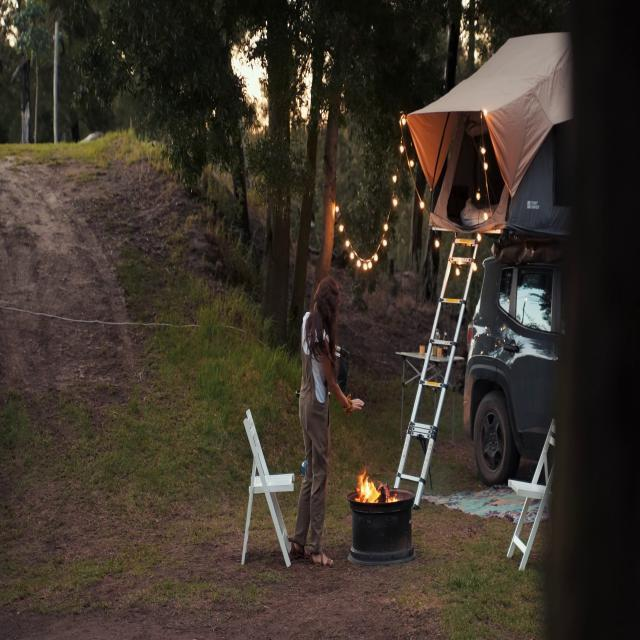Fire: (356, 463, 386, 506)
